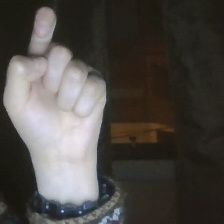X: (1, 1, 118, 173)
